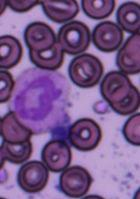N: (10, 67, 72, 133)
